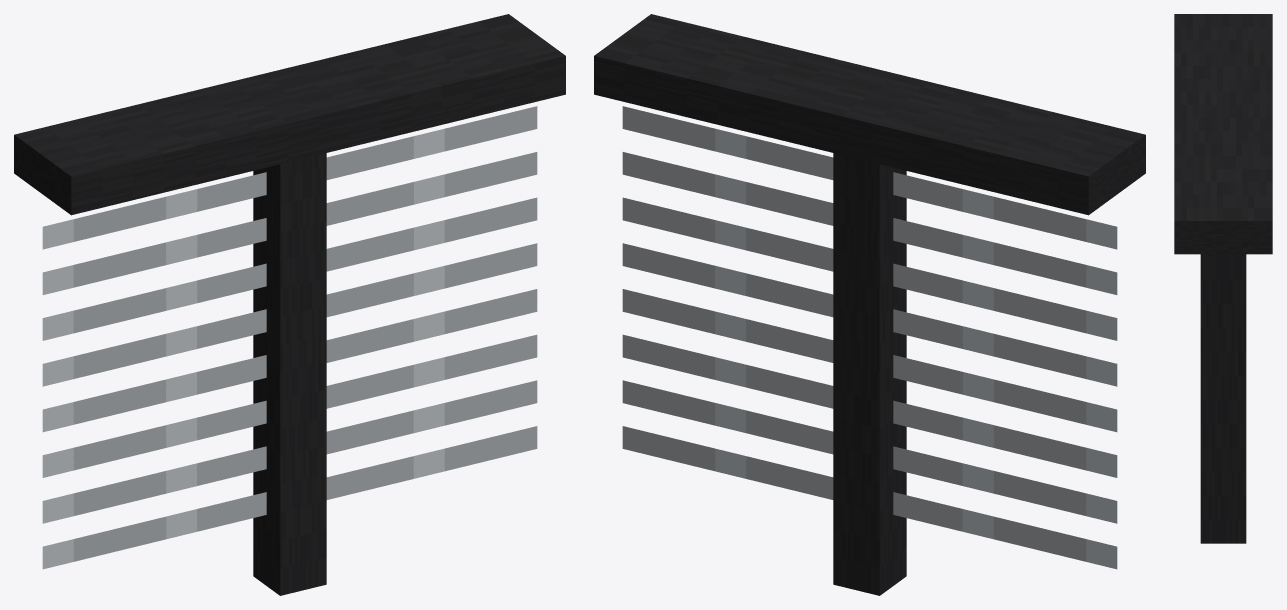
File: level.obj
3 renders of one model, left to right at view 1: azimuth 30°, elevation 25°; view 2: azimuth 150°, elevation 25°; view 3: azimuth 270°, elevation 25°, orthographic. The views are drawn at different scales.
Parts seen in each view (by area): view 1: railing_cable_black_level; view 2: railing_cable_black_level; view 3: railing_cable_black_level.
Part boxes in pixels (x1,y1,x2,y2): railing_cable_black_level: [14, 14, 565, 595]; railing_cable_black_level: [594, 14, 1145, 595]; railing_cable_black_level: [1174, 14, 1272, 543].
Size of the model in its own units: 1 by 0.9375 by 0.2.
